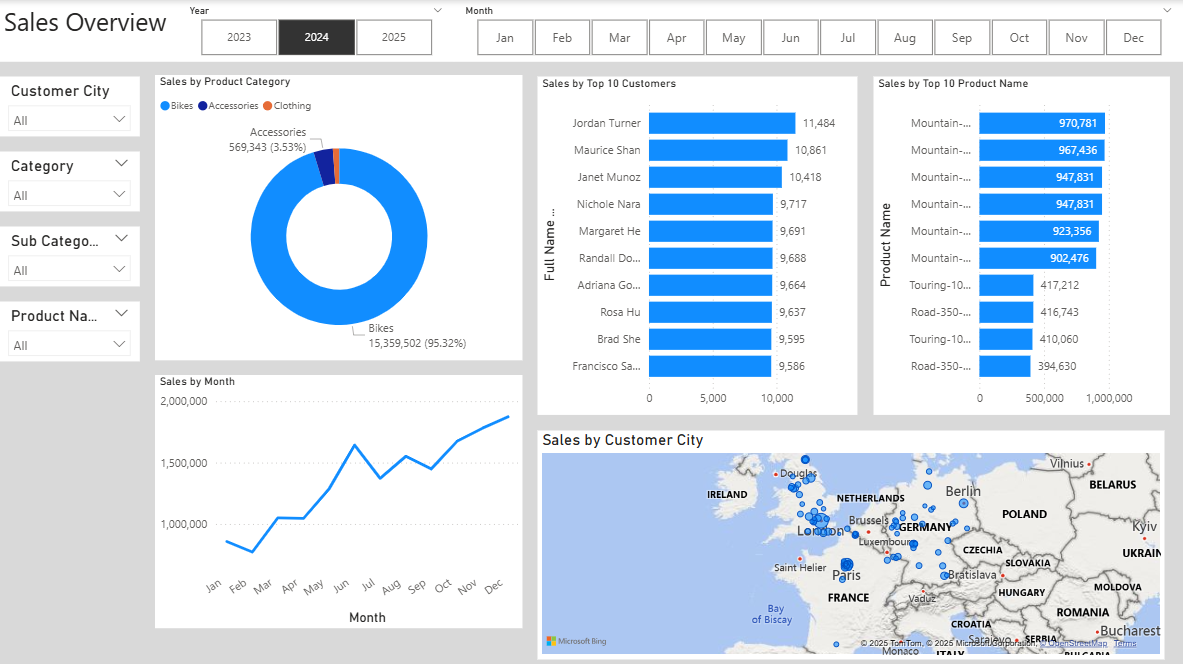

The dashboard page shown, as its layout file describes it:
{"tool":"powerbi","page":{"name":"Sales Overview","canvas":[1280,720],"ordinal":0},"visuals":[{"type":"textbox","box":[0,0,1280.8,66.4],"z":0},{"type":"slicer","fields":{"Values":["DIM_Customer.Customer City"]},"box":[0,82.6,152.2,64.8],"z":1000},{"type":"slicer","fields":{"Values":["DIM_Product.Product Category                                   "]},"box":[0,163.5,152.2,64.8],"z":2000},{"type":"slicer","fields":{"Values":["DIM_Product.Sub Category                                       "]},"box":[0,244.5,152.2,64.8],"z":3000},{"type":"slicer","fields":{"Values":["DIM_Product.Product Name                                       "]},"box":[0,325.5,152.2,64.8],"z":4000},{"type":"slicer","fields":{"Values":["DIM_Calendar.Year"]},"box":[192.8,0,298.6,66.1],"z":5000},{"type":"slicer","fields":{"Values":["DIM_Calendar.Monthshort"]},"box":[491.3,0,788,66.1],"z":6000},{"type":"donutChart","fields":{"Y":["Key Measures.Sales"],"Category":["DIM_Product.Product Category                                   "]},"box":[168.8,81.2,396.9,307.8],"z":7000},{"type":"lineChart","fields":{"Y":["Key Measures.Sales"],"Category":["DIM_Calendar.Monthshort"]},"box":[168.8,404.7,396.9,273.4],"z":8000},{"type":"barChart","title":"Sales by Top 10 Customers                                                                                            ","fields":{"Y":["Key Measures.Sales"],"Category":["DIM_Customer.Full Name                                                                                             "]},"box":[581.7,83.3,345,365],"z":9000},{"type":"barChart","title":"Sales by Top 10 Product Name                                       ","fields":{"Y":["Key Measures.Sales"],"Category":["DIM_Product.Product Name                                       "]},"box":[943.3,83.3,320,365],"z":10000},{"type":"map","fields":{"Category":["DIM_Customer.Customer City"],"Size":["Key Measures.Sales"]},"box":[581.7,465,676.7,246.7],"z":11000}]}

Visuals, with their boxes in screenshot pixels (x1, y1, x2, y2), scaled from the page's 1280x720 canvas onto the 1183x664 screenshot:
textbox: rect(0, 0, 1182, 61)
slicer - DIM_Customer.Customer City: rect(0, 76, 141, 136)
slicer - DIM_Product.Product Category                                   : rect(0, 151, 141, 211)
slicer - DIM_Product.Sub Category                                       : rect(0, 225, 141, 285)
slicer - DIM_Product.Product Name                                       : rect(0, 300, 141, 360)
slicer - DIM_Calendar.Year: rect(178, 0, 454, 61)
slicer - DIM_Calendar.Monthshort: rect(454, 0, 1182, 61)
donutChart - Key Measures.Sales x DIM_Product.Product Category                                   : rect(156, 75, 523, 359)
lineChart - Key Measures.Sales x DIM_Calendar.Monthshort: rect(156, 373, 523, 625)
"Sales by Top 10 Customers                                                                                            " barChart: rect(538, 77, 856, 413)
"Sales by Top 10 Product Name                                       " barChart: rect(872, 77, 1168, 413)
map - DIM_Customer.Customer City x Key Measures.Sales: rect(538, 429, 1163, 656)
